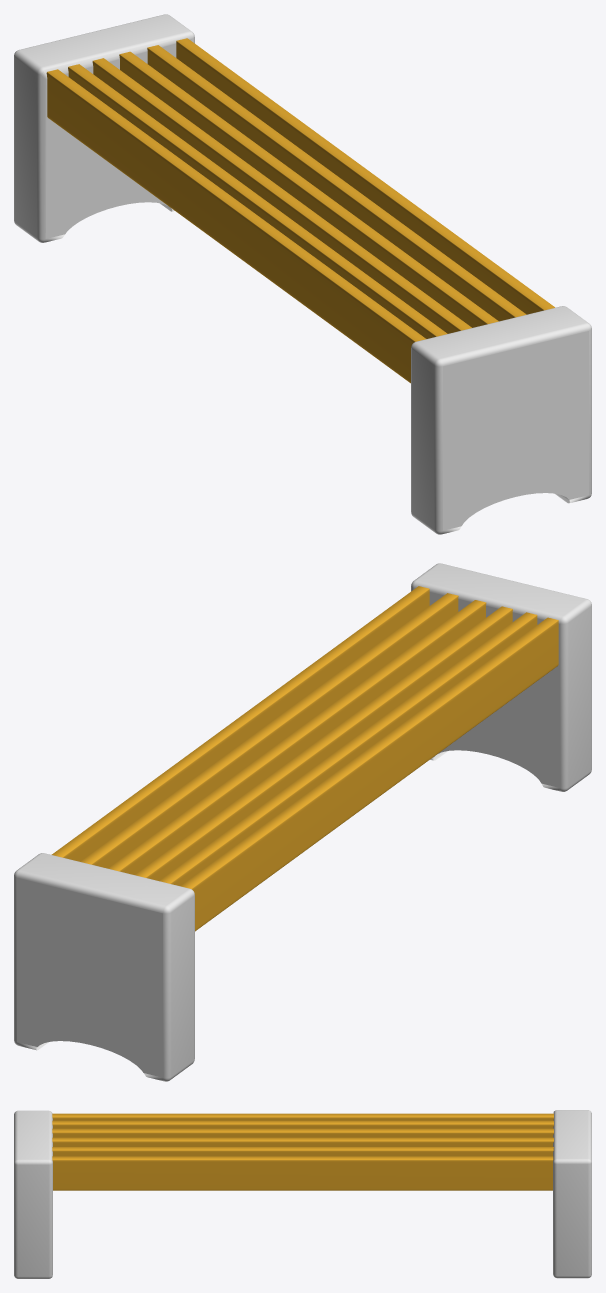
File: SM_Bench.fbx
The picture shows the model from 3 angles, top to bottom: view 1: azimuth 30°, elevation 25°; view 2: azimuth 150°, elevation 25°; view 3: azimuth 270°, elevation 25°; orthographic projection. The views are drawn at different scales.
Parts seen in each view (by area): view 1: Cube; view 2: Cube; view 3: Cube.
Boxes of the visible parts, <box> form: Cube: <box>14,14,591,534</box>; Cube: <box>14,563,591,1081</box>; Cube: <box>14,1110,591,1278</box>.
Size of the model in its own units: 34.31 by 36.94 by 161.
